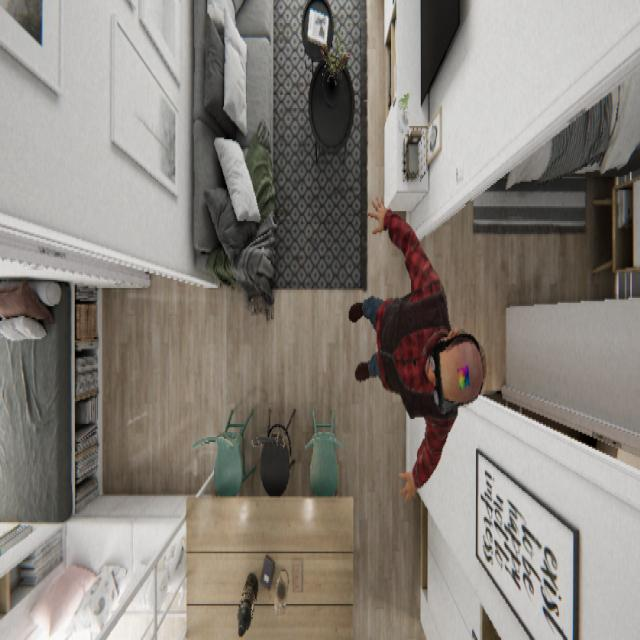Colored-Marker: (455, 360, 471, 391)
Human: (348, 193, 488, 504)
